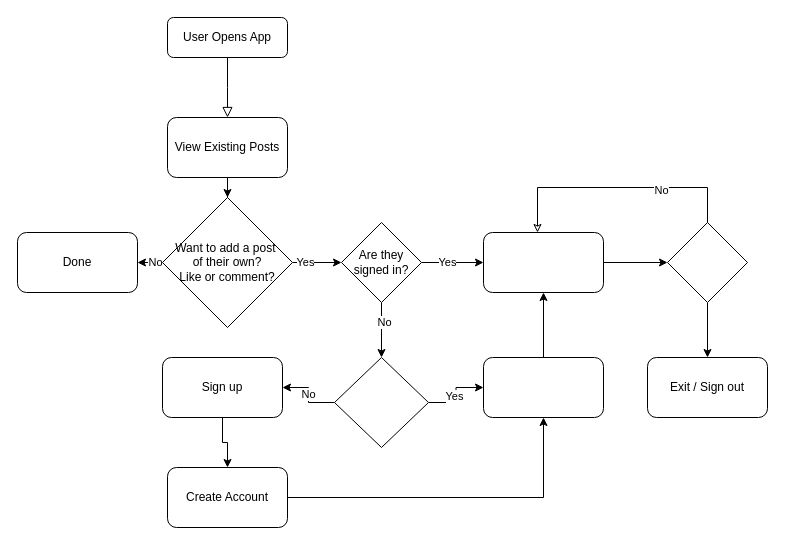
This 785x545 diagram has some shape labels left out. The centre of each missing label's shape, as x and y in pixels:
Are they done?: point (707, 262)
Do they have an account: point (381, 402)
post/like/comment: point (543, 262)
Sign in: point (543, 387)
